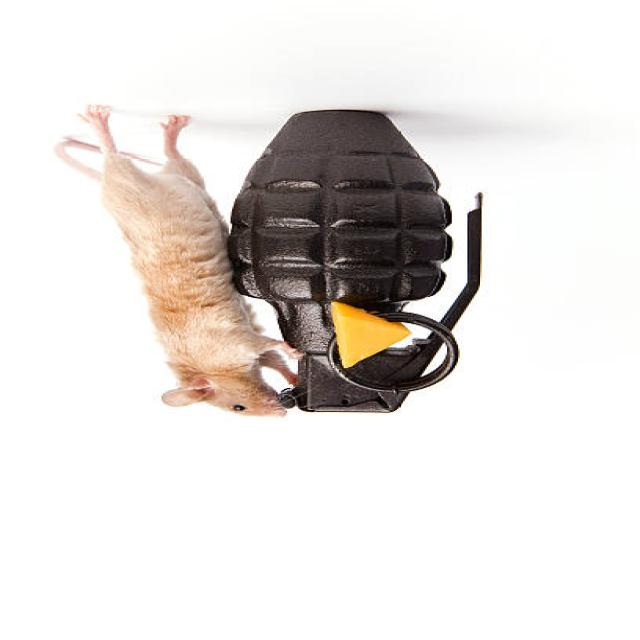grenade: (215, 106, 499, 420)
